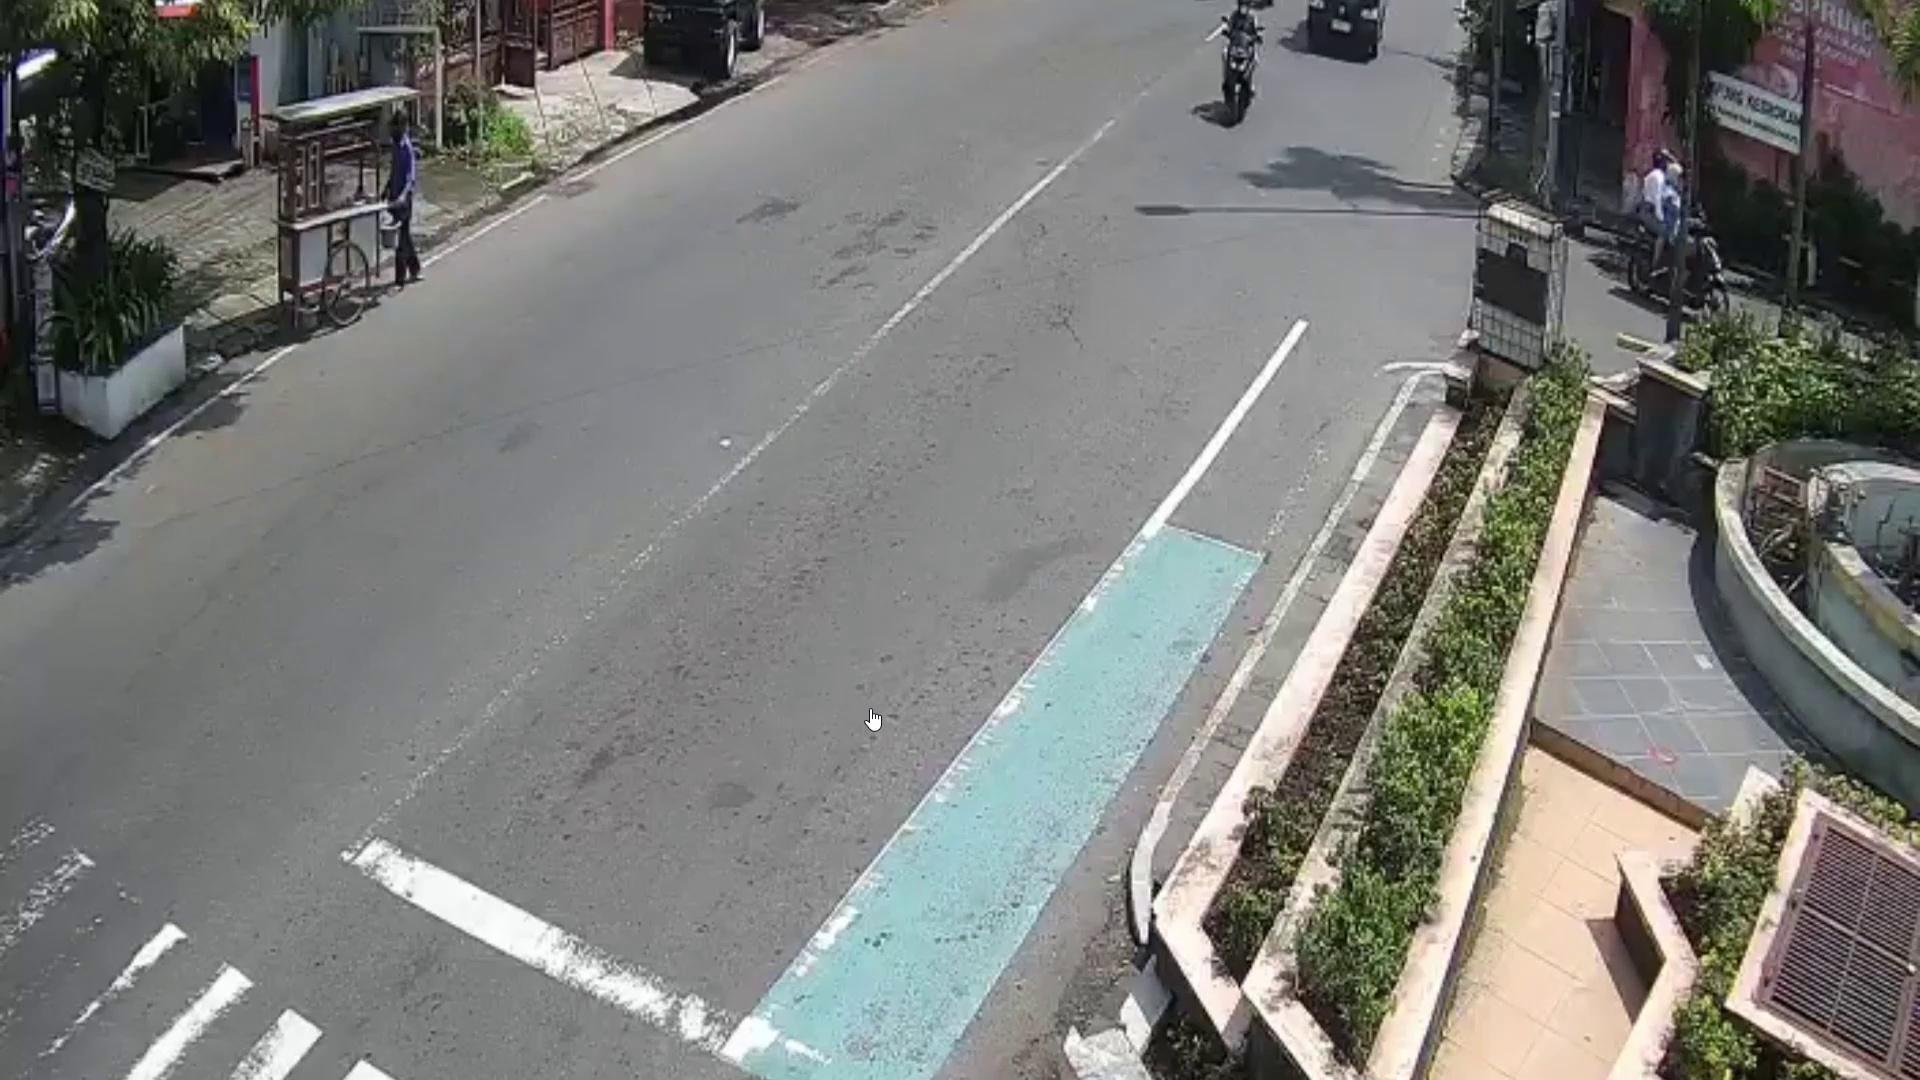motorbike: (1631, 210, 1730, 324), (1224, 24, 1255, 128)
